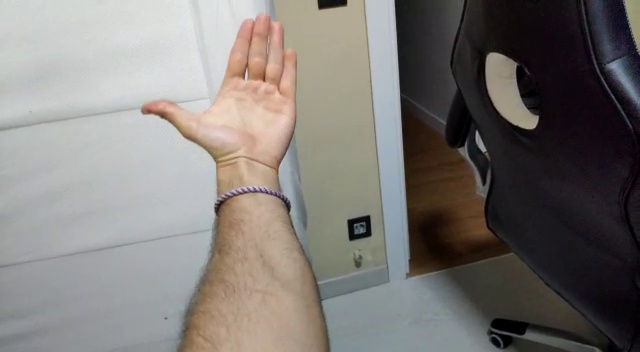Palm: (139, 8, 308, 175)
